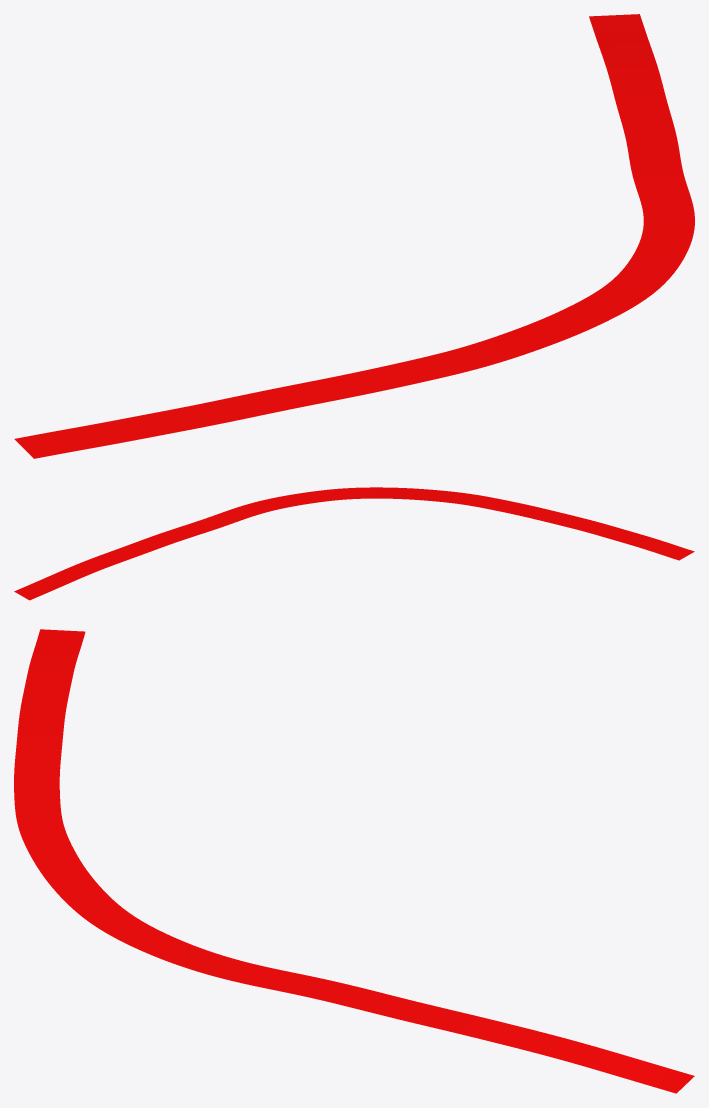
File: miniroad.glb
The picture shows the model from 3 angles, top to bottom: view 1: azimuth 30°, elevation 25°; view 2: azimuth 150°, elevation 25°; view 3: azimuth 270°, elevation 25°; orthographic projection. The views are drawn at different scales.
Visible parts, largest first — view 1: Mesh_1.001; view 2: Mesh_1.001; view 3: Mesh_1.001.
Boxes of the visible parts, x1,y1,x2,y2 form: Mesh_1.001: [14, 14, 694, 458]; Mesh_1.001: [14, 487, 694, 600]; Mesh_1.001: [14, 629, 694, 1093].
Bounding box in the file's own units: 249 × 12.7 × 171.
